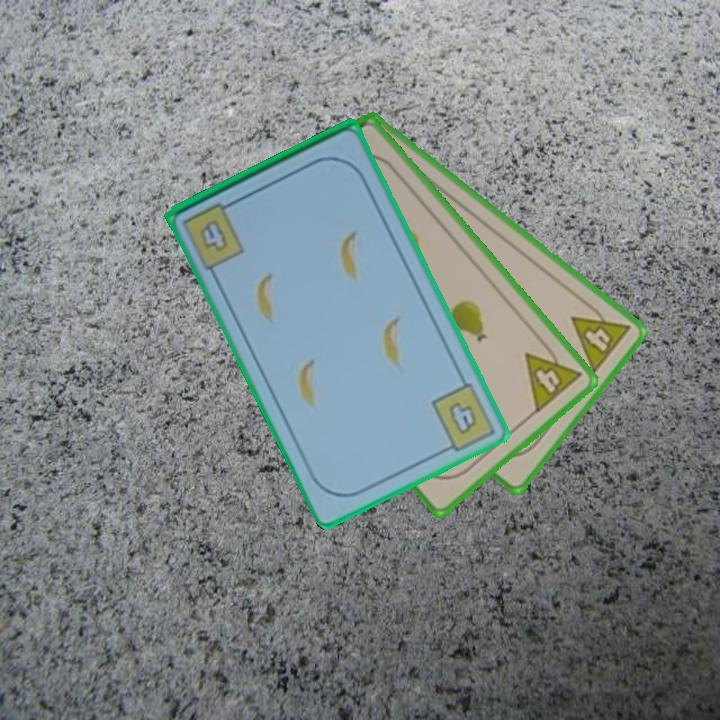4b: (427, 378, 499, 457), (197, 215, 232, 256)
4p: (567, 296, 634, 377), (521, 336, 584, 416)
